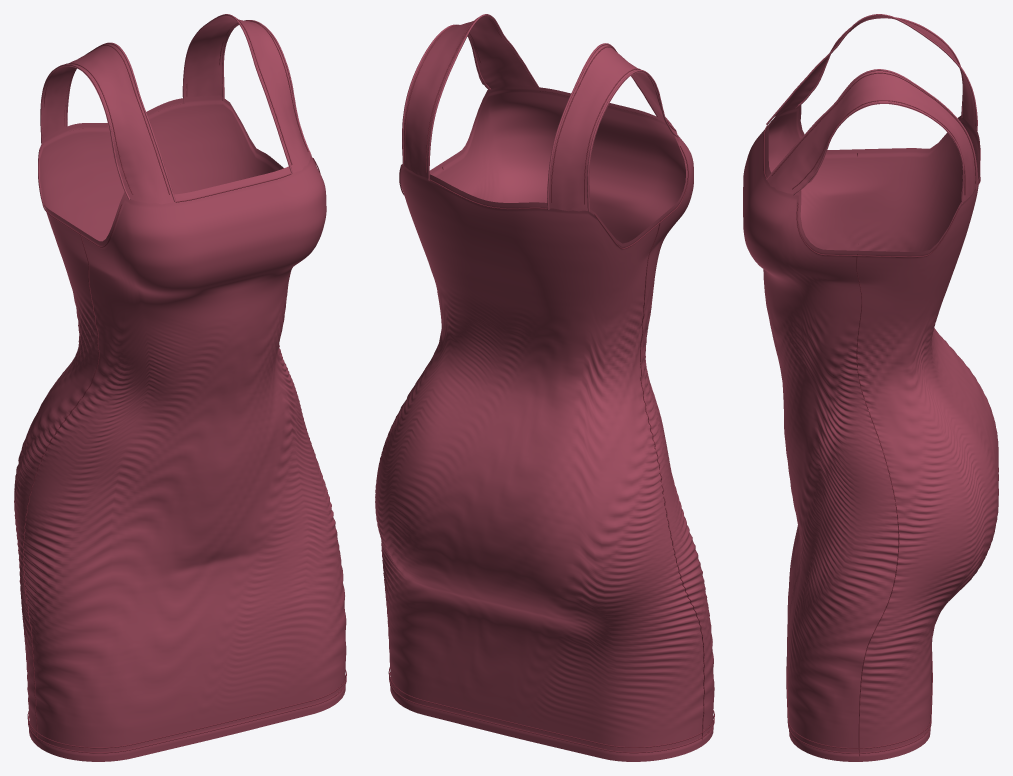
Rendered from vestido-mini-plisado_XS.glb.
The picture shows the model from 3 angles, left to right: view 1: azimuth 30°, elevation 25°; view 2: azimuth 150°, elevation 25°; view 3: azimuth 270°, elevation 25°; orthographic projection. The views are drawn at different scales.
Parts seen in each view (by area): view 1: vestido, tirante (×2), pespunte (×3), tirante-borde (×3); view 2: vestido, tirante (×2), pespunte (×3), tirante-borde (×2); view 3: vestido, tirante (×2), tirante-borde (×3), pespunte (×3).
Part boxes in pixels (x1=…): vestido: x1=14, y1=95, x2=346, y2=761; tirante (×2): x1=41, y1=14, x2=310, y2=204; pespunte (×3): x1=22, y1=232, x2=346, y2=753; tirante-borde (×3): x1=40, y1=14, x2=292, y2=201; vestido: x1=375, y1=86, x2=714, y2=761; tirante (×2): x1=403, y1=14, x2=677, y2=211; pespunte (×3): x1=388, y1=220, x2=714, y2=753; tirante-borde (×2): x1=428, y1=14, x2=678, y2=211; vestido: x1=743, y1=105, x2=998, y2=761; tirante (×2): x1=767, y1=14, x2=976, y2=203; tirante-borde (×3): x1=766, y1=14, x2=977, y2=203; pespunte (×3): x1=772, y1=72, x2=976, y2=756.
Bounding box in the file's own units: 0.3768 × 0.792 × 0.2824.
